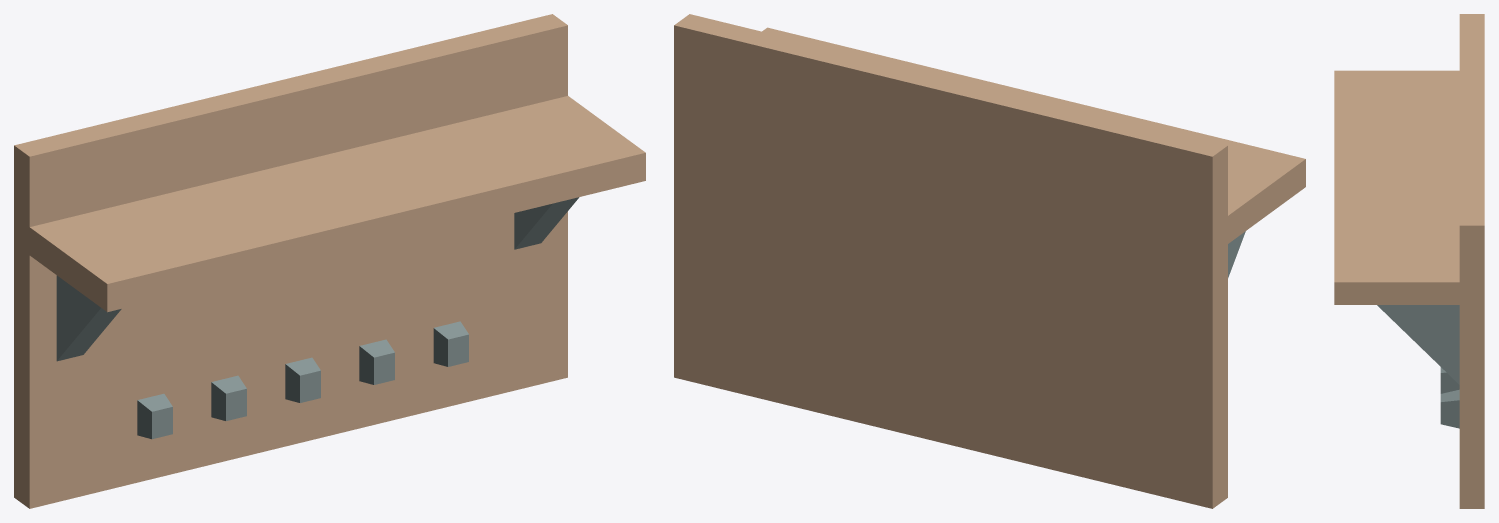
Rendered from coatRack.glb.
3 renders of one model, left to right at view 1: azimuth 30°, elevation 25°; view 2: azimuth 150°, elevation 25°; view 3: azimuth 270°, elevation 25°, orthographic. The views are drawn at different scales.
Parts seen in each view (by area): view 1: coatRack; view 2: coatRack; view 3: coatRack.
Part boxes in pixels (x1=…): coatRack: x1=14, y1=14, x2=645, y2=508; coatRack: x1=674, y1=14, x2=1305, y2=508; coatRack: x1=1334, y1=14, x2=1484, y2=508.
Size of the model in its own units: 0.448 by 0.28 by 0.1344.
